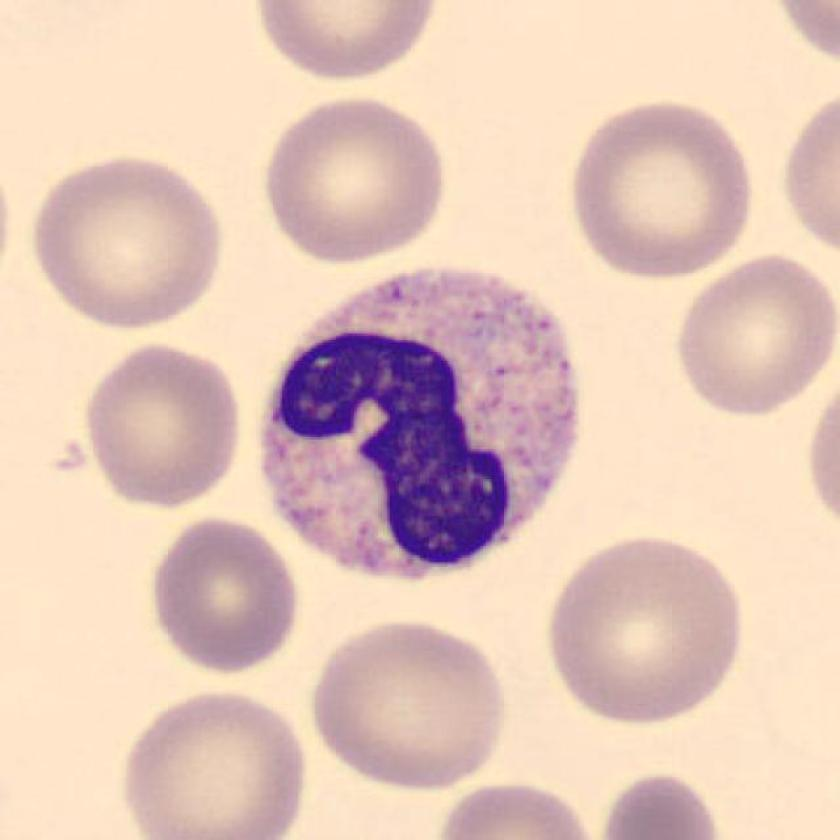neutrophil: (262, 269, 573, 580)
